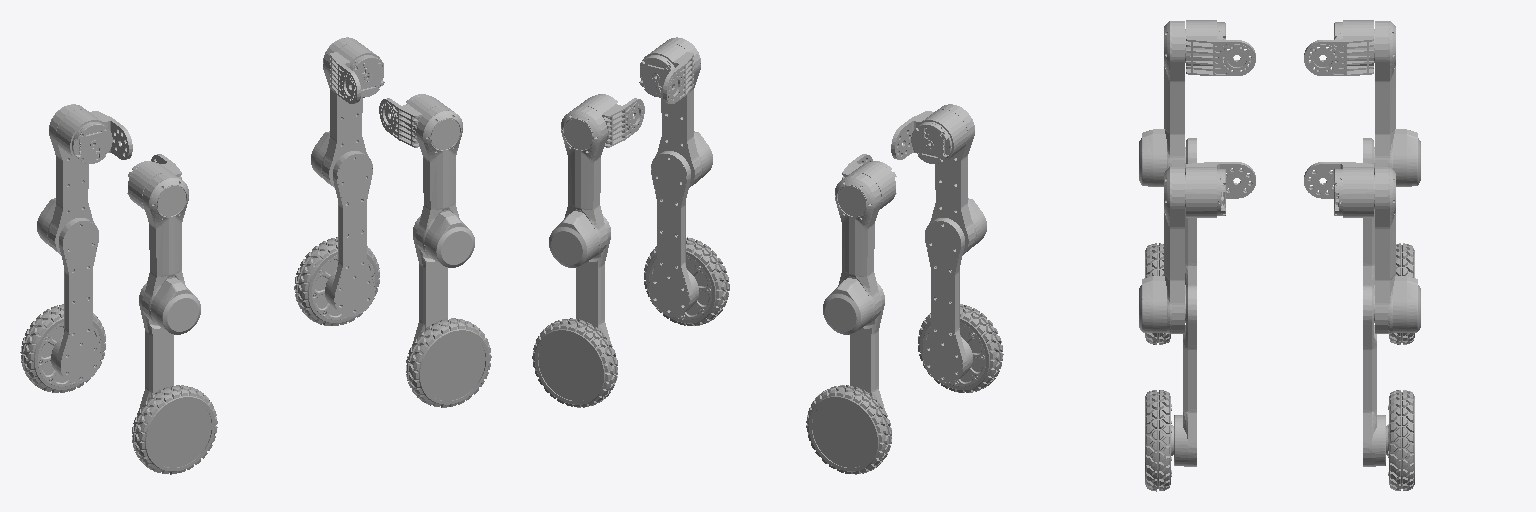
The robot description file, URDF, robot "t_m0p5":
<?xml version='1.0' encoding='utf-8'?>
<robot name="t_m0p5">
  <link name="base_link">
    <inertial>
      <origin xyz="0.00019775 0.0047105 0.0050189" rpy="0 0 0" />
      <mass value="25.732" /> <!--已加负载15kg-->
      <inertia ixx="0.0576354" ixy="0.0000238" ixz="-0.0001476" iyy="0.2032839" iyz="-0.0009128" izz="0.2338595" />
    </inertial>
    <visual>
      <origin xyz="0 0 0" rpy="0 0 0" />
      <geometry>
        <mesh filename="../meshes/base_link.STL" />
      </geometry>
      <material name="">
        <color rgba="0.75294 0.75294 0.75294 1" />
      </material>
    </visual>
    <collision>
      <origin xyz="0 0 0.018" rpy="0 0 0" />
      <geometry>
        <box size="0.46 0.23 0.15" />
      </geometry>
    </collision>
  </link>
  <link name="fl_hip_link">
    <inertial>
      <origin xyz="0.045349 0.046513 3.5451E-05" rpy="0 0 0" />
      <mass value="0.91412" />
      <inertia ixx="0.0006892" ixy="-0.0001084" ixz="0.0000007" iyy="0.0008300" iyz="0.0000011" izz="0.0008085" />
    </inertial>
    <visual>
      <origin xyz="0 0 0" rpy="0 0 0" />
      <geometry>
        <mesh filename="../meshes/fl_hip_link.STL" />
      </geometry>
      <material name="">
        <color rgba="0.75294 0.75294 0.75294 1" />
      </material>
    </visual>
    <collision>
      <origin xyz="0.05 0.065 0" rpy="1.57079632 0 0" />
      <geometry>
        <cylinder length="0.1" radius="0.04" />
      </geometry>
    </collision>
  </link>
  <joint name="fl_hip_joint" type="revolute">
    <origin xyz="0.222 0.0675 0" rpy="0 0 0" />
    <parent link="base_link" />
    <child link="fl_hip_link" />
    <axis xyz="1 0 0" />
    <limit lower="-0.6981" upper="0.6981" effort="60" velocity="24" />
  </joint>
  <link name="fl_thigh_link">
    <inertial>
      <origin xyz="-0.00017311 0.035574 -0.15844" rpy="0 0 0" />
      <mass value="1.0626" />
      <inertia ixx="0.0062499" ixy="0.0000059" ixz="-0.0000069" iyy="0.0062190" iyz="0.0007010" izz="0.0007802" />
    </inertial>
    <visual>
      <origin xyz="0 0 0" rpy="0 0 0" />
      <geometry>
        <mesh filename="../meshes/fl_thigh_link.STL" />
      </geometry>
      <material name="">
        <color rgba="0.75294 0.75294 0.75294 1" />
      </material>
    </visual>
    <collision>
      <origin xyz="0 0.023 -0.11" rpy="0 0 0" />
      <geometry>
        <box size="0.052 0.035 0.135" />
      </geometry>
    </collision>
    <collision>
      <origin xyz="0 0.035 -0.2" rpy="1.57079632 0 0" />
      <geometry>
        <cylinder length="0.092" radius="0.04" />
      </geometry>
    </collision>
  </link>
  <joint name="fl_thigh_joint" type="revolute">
    <origin xyz="0.05 0.074262 0" rpy="0 0 0" />
    <parent link="fl_hip_link" />
    <child link="fl_thigh_link" />
    <axis xyz="0 1 0" />
    <limit lower="-2" upper="3.5" effort="60" velocity="24" />
  </joint>
  <link name="fl_calf_link">
    <inertial>
      <origin xyz="-1.1337E-06 0.014073 -0.19086" rpy="0 0 0" />
      <mass value="1.0891" />
      <inertia ixx="0.0075407" ixy="0.0000000" ixz="-0.0000001" iyy="0.0078548" iyz="0.0011457" izz="0.0013136" />
    </inertial>
    <visual>
      <origin xyz="0 0 0" rpy="0 0 0" />
      <geometry>
        <mesh filename="../meshes/fl_calf_link.STL" />
      </geometry>
      <material name="">
        <color rgba="0.75294 0.75294 0.75294 1" />
      </material>
    </visual>
    <collision>
      <origin xyz="0 -0.014 -0.123" rpy="0 0 0" />
      <geometry>
        <box size="0.05 0.022 0.16" />
      </geometry>
    </collision>
    <collision>
      <origin xyz="0 -0.01 -0.23" rpy="1.57079632 0 0" />
      <geometry>
        <cylinder length="0.035" radius="0.042" />
      </geometry>
    </collision>
  </link>
  <joint name="fl_calf_joint" type="revolute">
    <origin xyz="0 0.012836 -0.2" rpy="0 0 0" />
    <parent link="fl_thigh_link" />
    <child link="fl_calf_link" />
    <axis xyz="0 1 0" />
    <limit lower="-2.6" upper="2.6" effort="75" velocity="15" />
  </joint>
  <link name="fl_foot_link">
    <inertial>
      <origin xyz="3.6222E-09 -0.0037764 -6.0774E-09" rpy="0 0 0" />
      <mass value="0.44986" />
      <inertia ixx="0.0009315" ixy="0.0000000" ixz="0.0000000" iyy="0.0017541" iyz="0.0000000" izz="0.00093151" />
    </inertial>
    <visual>
      <origin xyz="0 0 0" rpy="0 0 0" />
      <geometry>
        <mesh filename="../meshes/fl_foot_link.STL" />
      </geometry>
      <material name="">
        <color rgba="0.69804 0.69804 0.69804 1" />
      </material>
    </visual>
    <collision>
      <origin xyz="0 -0.008 0" rpy="1.57079632 0 0" />
      <geometry>
        <cylinder length="0.045" radius="0.08" />
      </geometry>
    </collision>
  </link>
  <joint name="fl_foot_joint" type="continuous">
    <origin xyz="0 0.045222 -0.23" rpy="0 0 0" />
    <parent link="fl_calf_link" />
    <child link="fl_foot_link" />
    <axis xyz="0 1 0" />
    <limit lower="-6.28" upper="6.28" effort="11" velocity="35" />
  </joint>
  <link name="fr_hip_link">
    <inertial>
      <origin xyz="0.045349 -0.046513 -3.5451E-05" rpy="0 0 0" />
      <mass value="0.91412" />
      <inertia ixx="0.0006892" ixy="0.0001084" ixz="-0.0000007" iyy="0.0008300" iyz="0.0000011" izz="0.0008085" />
    </inertial>
    <visual>
      <origin xyz="0 0 0" rpy="0 0 0" />
      <geometry>
        <mesh filename="../meshes/fr_hip_link.STL" />
      </geometry>
      <material name="">
        <color rgba="0.75294 0.75294 0.75294 1" />
      </material>
    </visual>
    <collision>
      <origin xyz="0.05 -0.065 0" rpy="1.57079632 0 0" />
      <geometry>
        <cylinder length="0.1" radius="0.04" />
      </geometry>
    </collision>
  </link>
  <joint name="fr_hip_joint" type="revolute">
    <origin xyz="0.222 -0.0675 0" rpy="0 0 0" />
    <parent link="base_link" />
    <child link="fr_hip_link" />
    <axis xyz="1 0 0" />
    <limit lower="-0.6981" upper="0.6981" effort="60" velocity="24" />
  </joint>
  <link name="fr_thigh_link">
    <inertial>
      <origin xyz="0.00017311 -0.035574 -0.15844" rpy="0 0 0" />
      <mass value="1.0626" />
      <inertia ixx="0.0062499" ixy="0.0000059" ixz="0.0000069" iyy="0.0062190" iyz="-0.0007010" izz="0.0007802" />
    </inertial>
    <visual>
      <origin xyz="0 0 0" rpy="0 0 0" />
      <geometry>
        <mesh filename="../meshes/fr_thigh_link.STL" />
      </geometry>
      <material name="">
        <color rgba="0.75294 0.75294 0.75294 1" />
      </material>
    </visual>
    <collision>
      <origin xyz="0 -0.023 -0.11" rpy="0 0 0" />
      <geometry>
        <box size="0.052 0.035 0.135" />
      </geometry>
    </collision>
    <collision>
      <origin xyz="0 -0.035 -0.2" rpy="1.57079632 0 0" />
      <geometry>
        <cylinder length="0.092" radius="0.04" />
      </geometry>
    </collision>
  </link>
  <joint name="fr_thigh_joint" type="revolute">
    <origin xyz="0.05 -0.074262 0" rpy="0 0 0" />
    <parent link="fr_hip_link" />
    <child link="fr_thigh_link" />
    <axis xyz="0 1 0" />
    <limit lower="-2" upper="3.5" effort="60" velocity="24" />
  </joint>
  <link name="fr_calf_link">
    <inertial>
      <origin xyz="1.1261E-06 -0.014073 -0.19086" rpy="0 0 0" />
      <mass value="1.0891" />
      <inertia ixx="0.0075407" ixy="0.0000000" ixz="0.0000001" iyy="0.0078548" iyz="-0.0011457" izz="0.0013136" />
    </inertial>
    <visual>
      <origin xyz="0 0 0" rpy="0 0 0" />
      <geometry>
        <mesh filename="../meshes/fr_calf_link.STL" />
      </geometry>
      <material name="">
        <color rgba="0.75294 0.75294 0.75294 1" />
      </material>
    </visual>
    <collision>
      <origin xyz="0 0.014 -0.123" rpy="0 0 0" />
      <geometry>
        <box size="0.05 0.022 0.16" />
      </geometry>
    </collision>
    <collision>
      <origin xyz="0 0.01 -0.23" rpy="1.57079632 0 0" />
      <geometry>
        <cylinder length="0.035" radius="0.042" />
      </geometry>
    </collision>
  </link>
  <joint name="fr_calf_joint" type="revolute">
    <origin xyz="0 -0.012836 -0.2" rpy="0 0 0" />
    <parent link="fr_thigh_link" />
    <child link="fr_calf_link" />
    <axis xyz="0 1 0" />
    <limit lower="-2.6" upper="2.6" effort="75" velocity="15" />
  </joint>
  <link name="fr_foot_link">
    <inertial>
      <origin xyz="-3.3609E-09 0.0037764 -6.2257E-09" rpy="0 0 0" />
      <mass value="0.44986" />
      <inertia ixx="0.00093151" ixy="0.0000000" ixz="0.0000000" iyy="0.0017541" iyz="0.0000000" izz="0.00093151" />
    </inertial>
    <visual>
      <origin xyz="0 0 0" rpy="0 0 0" />
      <geometry>
        <mesh filename="../meshes/fr_foot_link.STL" />
      </geometry>
      <material name="">
        <color rgba="0.69804 0.69804 0.69804 1" />
      </material>
    </visual>
    <collision>
      <origin xyz="0 0.008 0" rpy="1.57079632 0 0" />
      <geometry>
        <cylinder length="0.045" radius="0.08" />
      </geometry>
    </collision>
  </link>
  <joint name="fr_foot_joint" type="continuous">
    <origin xyz="0 -0.045222 -0.23" rpy="0 0 0" />
    <parent link="fr_calf_link" />
    <child link="fr_foot_link" />
    <axis xyz="0 1 0" />
    <limit lower="-6.28" upper="6.28" effort="11" velocity="35" />
  </joint>
  <link name="rl_hip_link">
    <inertial>
      <origin xyz="-0.045349 0.046513 -3.5451E-05" rpy="0 0 0" />
      <mass value="0.91412" />
      <inertia ixx="0.0006892" ixy="0.0001084" ixz="0.0000007" iyy="0.0008300" iyz="-0.0000011" izz="0.0008085" />
    </inertial>
    <visual>
      <origin xyz="0 0 0" rpy="0 0 0" />
      <geometry>
        <mesh filename="../meshes/rl_hip_link.STL" />
      </geometry>
      <material name="">
        <color rgba="0.75294 0.75294 0.75294 1" />
      </material>
    </visual>
    <collision>
      <origin xyz="-0.05 0.065 0" rpy="1.57079632 0 0" />
      <geometry>
        <cylinder length="0.1" radius="0.04" />
      </geometry>
    </collision>
  </link>
  <joint name="rl_hip_joint" type="revolute">
    <origin xyz="-0.222 0.0675 0" rpy="0 0 0" />
    <parent link="base_link" />
    <child link="rl_hip_link" />
    <axis xyz="1 0 0" />
    <limit lower="-0.6981" upper="0.6981" effort="60" velocity="24" />
  </joint>
  <link name="rl_thigh_link">
    <inertial>
      <origin xyz="-0.00017311 0.035574 -0.15844" rpy="0 0 0" />
      <mass value="1.0626" />
      <inertia ixx="0.0062499" ixy="0.0000059" ixz="-0.0000069" iyy="0.0062190" iyz="0.0007010" izz="0.0007802" />
    </inertial>
    <visual>
      <origin xyz="0 0 0" rpy="0 0 0" />
      <geometry>
        <mesh filename="../meshes/rl_thigh_link.STL" />
      </geometry>
      <material name="">
        <color rgba="0.75294 0.75294 0.75294 1" />
      </material>
    </visual>
    <collision>
      <origin xyz="0 0.023 -0.11" rpy="0 0 0" />
      <geometry>
        <box size="0.052 0.035 0.135" />
      </geometry>
    </collision>
    <collision>
      <origin xyz="0 0.035 -0.2" rpy="1.57079632 0 0" />
      <geometry>
        <cylinder length="0.092" radius="0.04" />
      </geometry>
    </collision>
  </link>
  <joint name="rl_thigh_joint" type="revolute">
    <origin xyz="-0.05 0.074262 0" rpy="0 0 0" />
    <parent link="rl_hip_link" />
    <child link="rl_thigh_link" />
    <axis xyz="0 1 0" />
    <limit lower="-2" upper="3.5" effort="60" velocity="24" />
  </joint>
  <link name="rl_calf_link">
    <inertial>
      <origin xyz="-1.1337E-06 0.014073 -0.19086" rpy="0 0 0" />
      <mass value="1.0891" />
      <inertia ixx="0.0075407" ixy="0.0000000" ixz="-0.0000001" iyy="0.0078548" iyz="0.0011457" izz="0.0013136" />
    </inertial>
    <visual>
      <origin xyz="0 0 0" rpy="0 0 0" />
      <geometry>
        <mesh filename="../meshes/rl_calf_link.STL" />
      </geometry>
      <material name="">
        <color rgba="0.75294 0.75294 0.75294 1" />
      </material>
    </visual>
    <collision>
      <origin xyz="0 -0.014 -0.123" rpy="0 0 0" />
      <geometry>
        <box size="0.05 0.022 0.16" />
      </geometry>
    </collision>
    <collision>
      <origin xyz="0 -0.01 -0.23" rpy="1.57079632 0 0" />
      <geometry>
        <cylinder length="0.035" radius="0.042" />
      </geometry>
    </collision>
  </link>
  <joint name="rl_calf_joint" type="revolute">
    <origin xyz="0 0.012836 -0.2" rpy="0 0 0" />
    <parent link="rl_thigh_link" />
    <child link="rl_calf_link" />
    <axis xyz="0 1 0" />
    <limit lower="-2.6" upper="2.6" effort="75" velocity="15" />
  </joint>
  <link name="rl_foot_link">
    <inertial>
      <origin xyz="2.6605E-09 -0.0037764 -6.5555E-09" rpy="0 0 0" />
      <mass value="0.44986" />
      <inertia ixx="0.00093151" ixy="0.00000000" ixz="0.00000000" iyy="0.0017541" iyz="0.0000000" izz="0.00093151" />
    </inertial>
    <visual>
      <origin xyz="0 0 0" rpy="0 0 0" />
      <geometry>
        <mesh filename="../meshes/rl_foot_link.STL" />
      </geometry>
      <material name="">
        <color rgba="0.69804 0.69804 0.69804 1" />
      </material>
    </visual>
    <collision>
      <origin xyz="0 -0.008 0" rpy="1.57079632 0 0" />
      <geometry>
        <cylinder length="0.045" radius="0.08" />
      </geometry>
    </collision>
  </link>
  <joint name="rl_foot_joint" type="continuous">
    <origin xyz="0 0.045222 -0.23" rpy="0 0 0" />
    <parent link="rl_calf_link" />
    <child link="rl_foot_link" />
    <axis xyz="0 1 0" />
    <limit lower="-6.28" upper="6.28" effort="11" velocity="35" />
  </joint>
  <link name="rr_hip_link">
    <inertial>
      <origin xyz="-0.0453487370460507 -0.0465131629876383 3.54512011979257E-05" rpy="0 0 0" />
      <mass value="0.914124317931859" />
      <inertia ixx="0.0006892" ixy="-0.0001084" ixz="-0.0000007" iyy="0.0008300" iyz="-0.0000011" izz="0.0008085" />
    </inertial>
    <visual>
      <origin xyz="0 0 0" rpy="0 0 0" />
      <geometry>
        <mesh filename="../meshes/rr_hip_link.STL" />
      </geometry>
      <material name="">
        <color rgba="0.752941176470588 0.752941176470588 0.752941176470588 1" />
      </material>
    </visual>
    <collision>
      <origin xyz="-0.05 -0.065 0" rpy="1.57079632 0 0" />
      <geometry>
        <cylinder length="0.1" radius="0.04" />
      </geometry>
    </collision>
  </link>
  <joint name="rr_hip_joint" type="revolute">
    <origin xyz="-0.222 -0.0675 0" rpy="0 0 0" />
    <parent link="base_link" />
    <child link="rr_hip_link" />
    <axis xyz="1 0 0" />
    <limit lower="-0.6981" upper="0.6981" effort="60" velocity="24" />
  </joint>
  <link name="rr_thigh_link">
    <inertial>
      <origin xyz="0.000173112656451091 -0.0355740339592207 -0.158438104838236" rpy="0 0 0" />
      <mass value="1.06257829336558" />
      <inertia ixx="0.0062499" ixy="0.0000059" ixz="0.0000069" iyy="0.0062190" iyz="-0.0007010" izz="0.0007802" />
    </inertial>
    <visual>
      <origin xyz="0 0 0" rpy="0 0 0" />
      <geometry>
        <mesh filename="../meshes/rr_thigh_link.STL" />
      </geometry>
      <material name="">
        <color rgba="0.752941176470588 0.752941176470588 0.752941176470588 1" />
      </material>
    </visual>
    <collision>
      <origin xyz="0 -0.023 -0.11" rpy="0 0 0" />
      <geometry>
        <box size="0.052 0.035 0.135" />
      </geometry>
    </collision>
    <collision>
      <origin xyz="0 -0.035 -0.2" rpy="1.57079632 0 0" />
      <geometry>
        <cylinder length="0.092" radius="0.04" />
      </geometry>
    </collision>
  </link>
  <joint name="rr_thigh_joint" type="revolute">
    <origin xyz="-0.05 -0.074262 0" rpy="0 0 0" />
    <parent link="rr_hip_link" />
    <child link="rr_thigh_link" />
    <axis xyz="0 1 0" />
    <limit lower="-2" upper="3.5" effort="60" velocity="24" />
  </joint>
  <link name="rr_calf_link">
    <inertial>
      <origin xyz="1.13371218524172E-06 -0.0140726701350197 -0.190860627836521" rpy="0 0 0" />
      <mass value="1.08909724506791" />
      <inertia ixx="0.0075407" ixy="0.0000000" ixz="0.0000001" iyy="0.0078548" iyz="-0.0011457" izz="0.0013136" />
    </inertial>
    <visual>
      <origin xyz="0 0 0" rpy="0 0 0" />
      <geometry>
        <mesh filename="../meshes/rr_calf_link.STL" />
      </geometry>
      <material name="">
        <color rgba="0.752941176470588 0.752941176470588 0.752941176470588 1" />
      </material>
    </visual>
    <collision>
      <origin xyz="0 0.014 -0.123" rpy="0 0 0" />
      <geometry>
        <box size="0.05 0.022 0.16" />
      </geometry>
    </collision>
    <collision>
      <origin xyz="0 0.01 -0.23" rpy="1.57079632 0 0" />
      <geometry>
        <cylinder length="0.035" radius="0.042" />
      </geometry>
    </collision>
  </link>
  <joint name="rr_calf_joint" type="revolute">
    <origin xyz="0 -0.012836 -0.2" rpy="0 0 0" />
    <parent link="rr_thigh_link" />
    <child link="rr_calf_link" />
    <axis xyz="0 1 0" />
    <limit lower="-2.6" upper="2.6" effort="75" velocity="15" />
  </joint>
  <link name="rr_foot_link">
    <inertial>
      <origin xyz="-4.2025472546392E-09 0.00377643320446316 -5.69127356353505E-09" rpy="0 0 0" />
      <mass value="0.449860168284275" />
      <inertia ixx="0.0009315" ixy="0.0000000" ixz="0.0000000" iyy="0.0017541" iyz="0.0000000" izz="0.0009315" />
    </inertial>
    <visual>
      <origin xyz="0 0 0" rpy="0 0 0" />
      <geometry>
        <mesh filename="../meshes/rr_foot_link.STL" />
      </geometry>
      <material name="">
        <color rgba="0.698039215686274 0.698039215686274 0.698039215686274 1" />
      </material>
    </visual>
    <collision>
      <origin xyz="0 0.008 0" rpy="1.57079632 0 0" />
      <geometry>
        <cylinder length="0.045" radius="0.08" />
      </geometry>
    </collision>
  </link>
  <joint name="rr_foot_joint" type="continuous">
    <origin xyz="0 -0.045222 -0.23" rpy="0 0 0" />
    <parent link="rr_calf_link" />
    <child link="rr_foot_link" />
    <axis xyz="0 1 0" />
    <limit lower="-6.28" upper="6.28" effort="11" velocity="35" />
  </joint>
</robot>

--- Render facts (derived) ---
Views: 3 orthographic renders of the robot side by side, from view 1: azimuth 30°, elevation 25°; view 2: azimuth 150°, elevation 25°; view 3: azimuth 270°, elevation 25°.
Model t_m0p5 with 17 links and 16 joints (12 revolute, 4 continuous), rooted at base_link, posed every joint at zero.
Links seen in each view (by area): view 1: fl_calf_link, rl_calf_link, fr_thigh_link, rr_thigh_link, rr_foot_link, fr_foot_link, rl_thigh_link, rl_hip_link, fl_thigh_link, fl_hip_link, fl_foot_link, rl_foot_link (+4 smaller); view 2: rr_calf_link, fr_calf_link, fl_thigh_link, rl_thigh_link, rl_foot_link, fl_foot_link, rr_thigh_link, rr_hip_link, fr_thigh_link, fr_hip_link, fr_foot_link, fl_calf_link (+4 smaller); view 3: fl_thigh_link, fr_thigh_link, rl_thigh_link, rr_thigh_link, fr_hip_link, fl_hip_link, rr_hip_link, rl_hip_link, fr_calf_link, fl_calf_link, fr_foot_link, fl_foot_link (+4 smaller).
Link boxes in pixels (x1=…): fl_calf_link: x1=312, y1=151, x2=375, y2=319; rl_calf_link: x1=38, y1=218, x2=101, y2=386; fr_thigh_link: x1=416, y1=106, x2=474, y2=267; rr_thigh_link: x1=142, y1=173, x2=200, y2=334; rr_foot_link: x1=132, y1=385, x2=217, y2=474; fr_foot_link: x1=406, y1=318, x2=491, y2=407; rl_thigh_link: x1=37, y1=104, x2=94, y2=254; rl_hip_link: x1=56, y1=110, x2=132, y2=163; fl_thigh_link: x1=311, y1=37, x2=368, y2=187; fl_hip_link: x1=329, y1=43, x2=384, y2=103; fl_foot_link: x1=294, y1=237, x2=379, y2=325; rl_foot_link: x1=20, y1=304, x2=105, y2=392; rr_calf_link: x1=922, y1=218, x2=985, y2=386; fr_calf_link: x1=648, y1=151, x2=711, y2=319; fl_thigh_link: x1=549, y1=106, x2=607, y2=267; rl_thigh_link: x1=823, y1=173, x2=881, y2=334; rl_foot_link: x1=806, y1=385, x2=891, y2=474; fl_foot_link: x1=532, y1=318, x2=617, y2=407; rr_thigh_link: x1=929, y1=104, x2=986, y2=254; rr_hip_link: x1=891, y1=110, x2=967, y2=163; fr_thigh_link: x1=655, y1=37, x2=712, y2=187; fr_hip_link: x1=639, y1=43, x2=694, y2=103; fr_foot_link: x1=644, y1=237, x2=729, y2=325; fl_calf_link: x1=576, y1=216, x2=612, y2=348; fl_thigh_link: x1=1374, y1=167, x2=1420, y2=333; fr_thigh_link: x1=1139, y1=167, x2=1185, y2=333; rl_thigh_link: x1=1374, y1=21, x2=1420, y2=186; rr_thigh_link: x1=1139, y1=21, x2=1185, y2=186; fr_hip_link: x1=1186, y1=162, x2=1255, y2=217; fl_hip_link: x1=1304, y1=162, x2=1373, y2=217; rr_hip_link: x1=1186, y1=20, x2=1255, y2=75; rl_hip_link: x1=1304, y1=20, x2=1373, y2=75; fr_calf_link: x1=1171, y1=285, x2=1196, y2=476; fl_calf_link: x1=1363, y1=285, x2=1388, y2=475; fr_foot_link: x1=1145, y1=390, x2=1170, y2=491; fl_foot_link: x1=1389, y1=390, x2=1414, y2=490.
Bounding box of the posed robot: 0.7039 × 0.4413 × 0.5499 m (x, y, z).
16 mesh visuals loaded from 17 distinct referenced files (16 binary STL); not drawn: 1 (reference not matched to a file when rendering).
